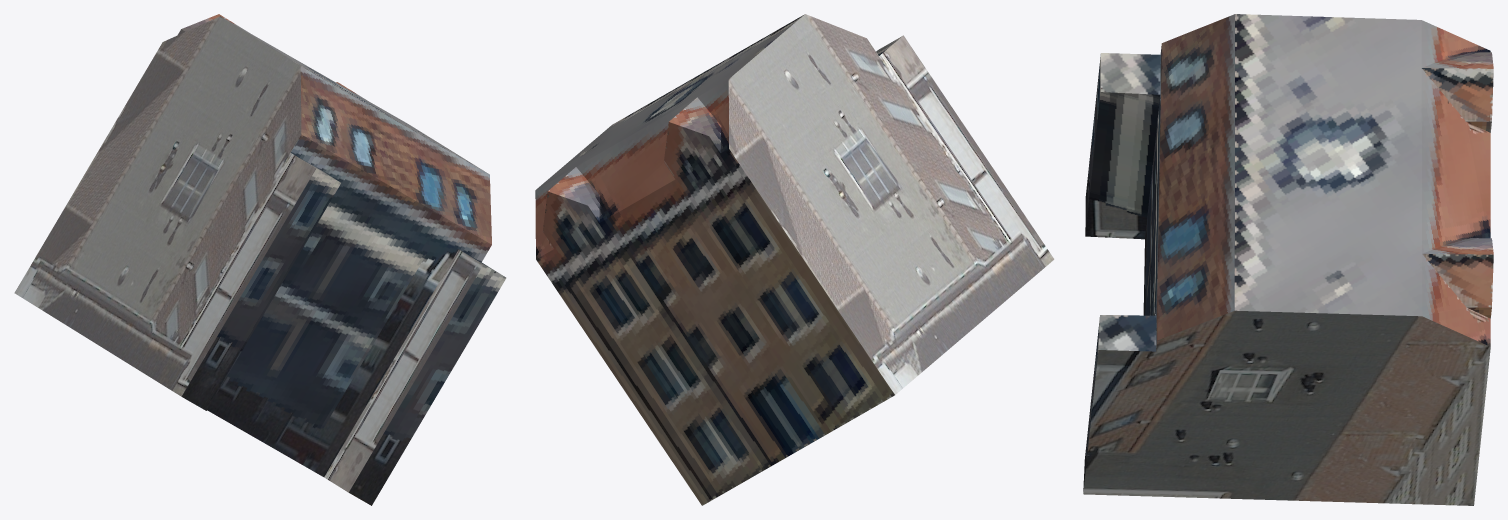
3 views of the same model, side by side, from view 1: azimuth 30°, elevation 25°; view 2: azimuth 150°, elevation 25°; view 3: azimuth 270°, elevation 25° (orthographic). The views are drawn at different scales.
Visible parts, largest first — view 1: BAG_0599100000670810 (×6); view 2: BAG_0599100000670810 (×5); view 3: BAG_0599100000670810 (×5).
Part boxes in pixels (box(x1,y1,x2,y2)): BAG_0599100000670810 (×6): box(14, 14, 506, 505); BAG_0599100000670810 (×5): box(535, 14, 1054, 505); BAG_0599100000670810 (×5): box(1083, 14, 1493, 505).
Size of the model in its own units: 16.55 by 17.17 by 13.01.
6 materials, 6 textured.
